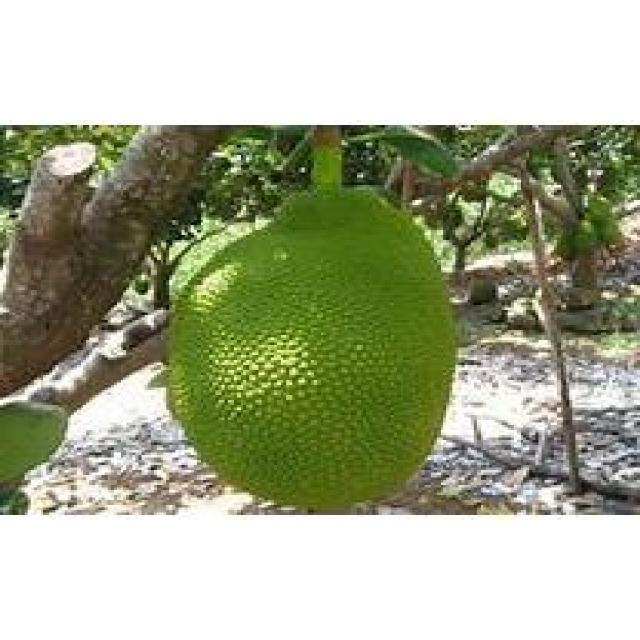Fruit: (148, 178, 477, 512)
